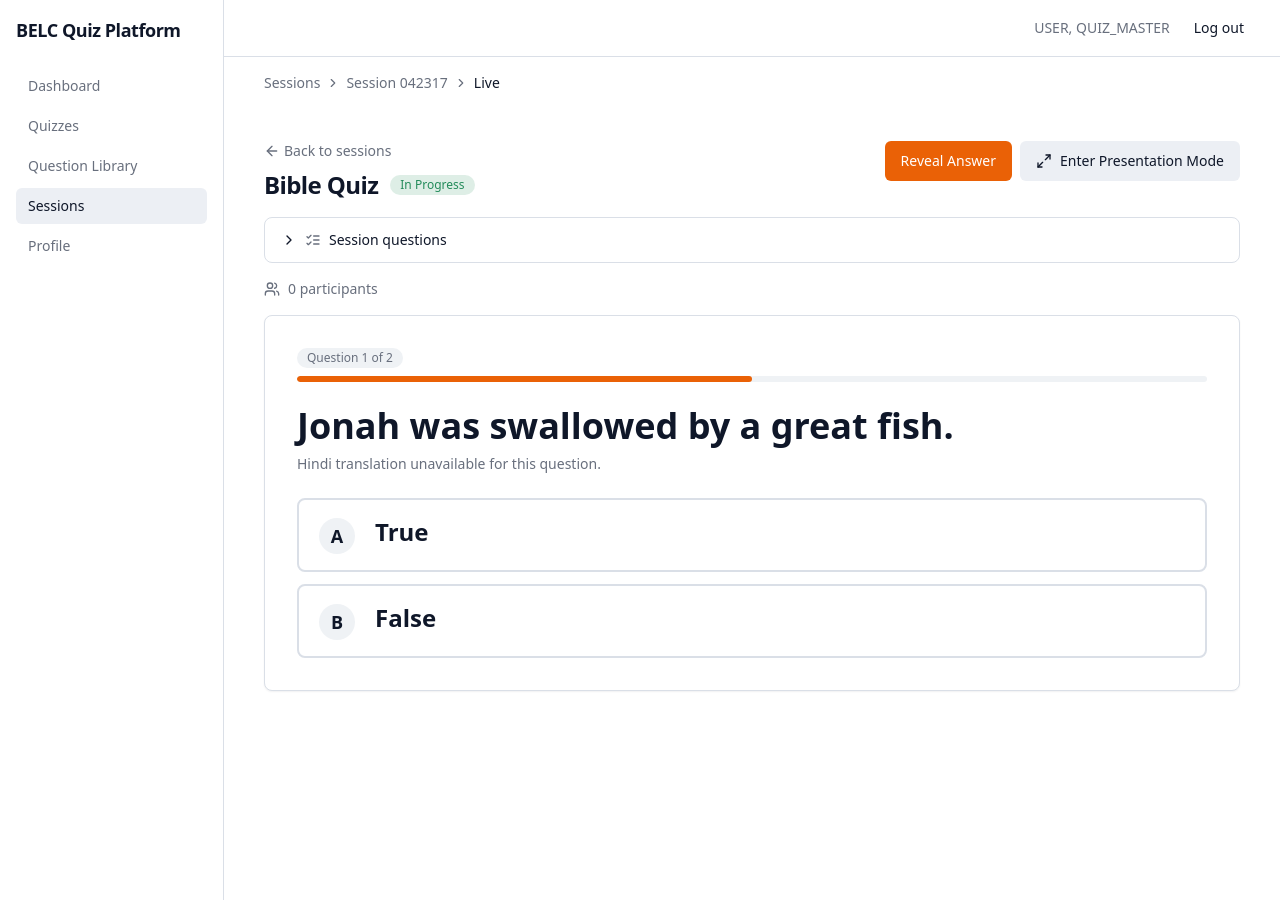
Test: SessionLivePage › surfaces an authorization failure without leaving the page
Click the button "Reveal Answer". click: (948, 161)
box: x1=885 y1=141 x2=1012 y2=181
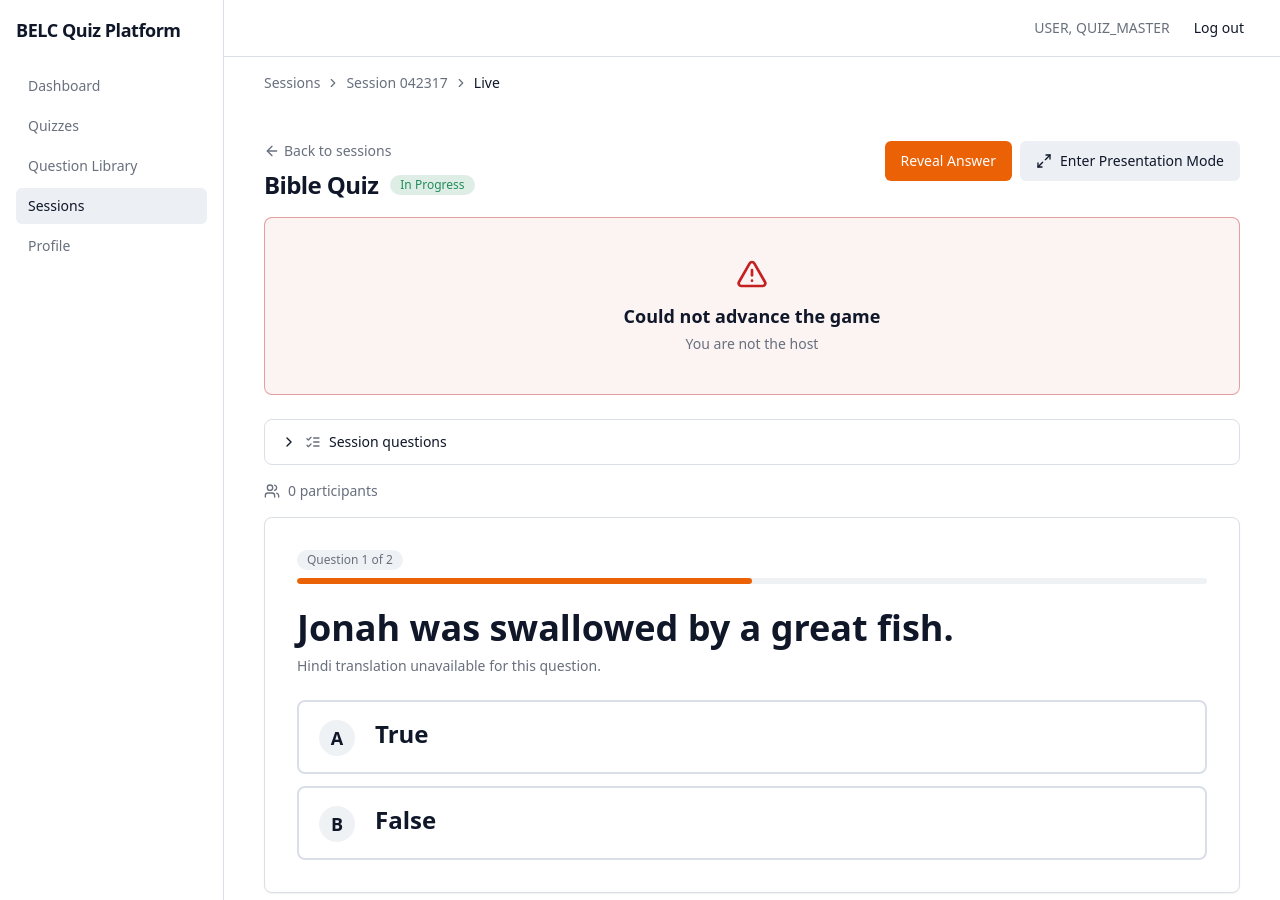
Expected: the text "You are not the host" is shown, x1=686 y1=334 x2=818 y2=354
